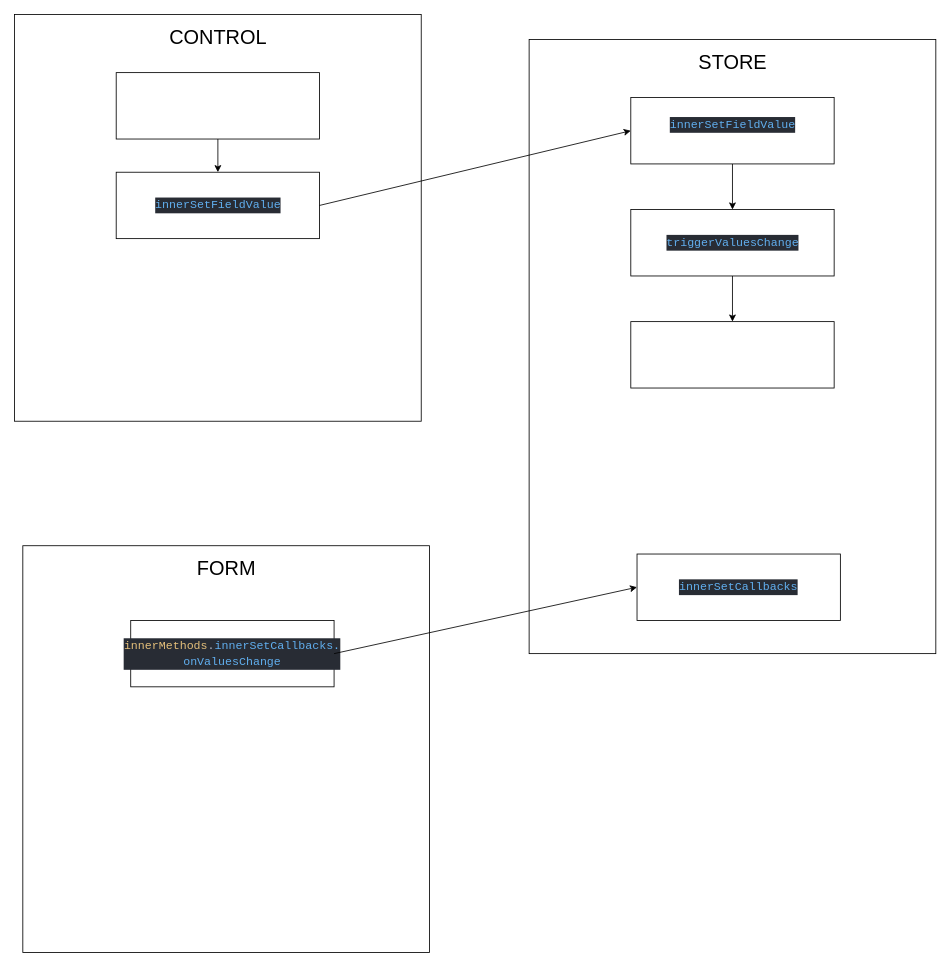
This 950x967 diagram has some shape labels left out. The centre of each missing label's shape, as x and y in pixels:
"handleTrigger" belongs at point 217,105.
"this.callback. onValuesChange" belongs at point 732,354.
